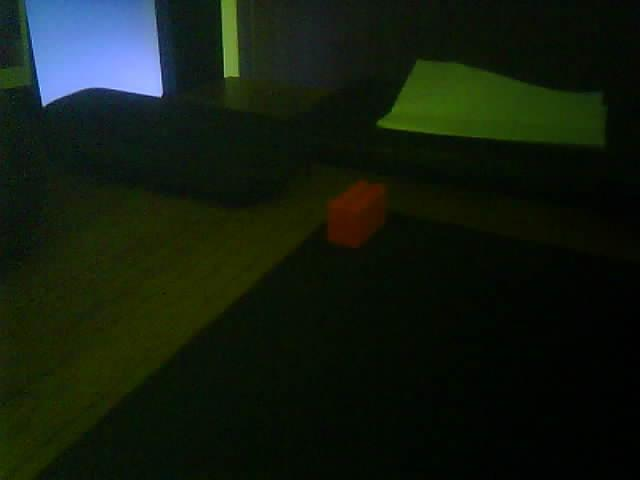lego: (326, 179, 386, 247)
